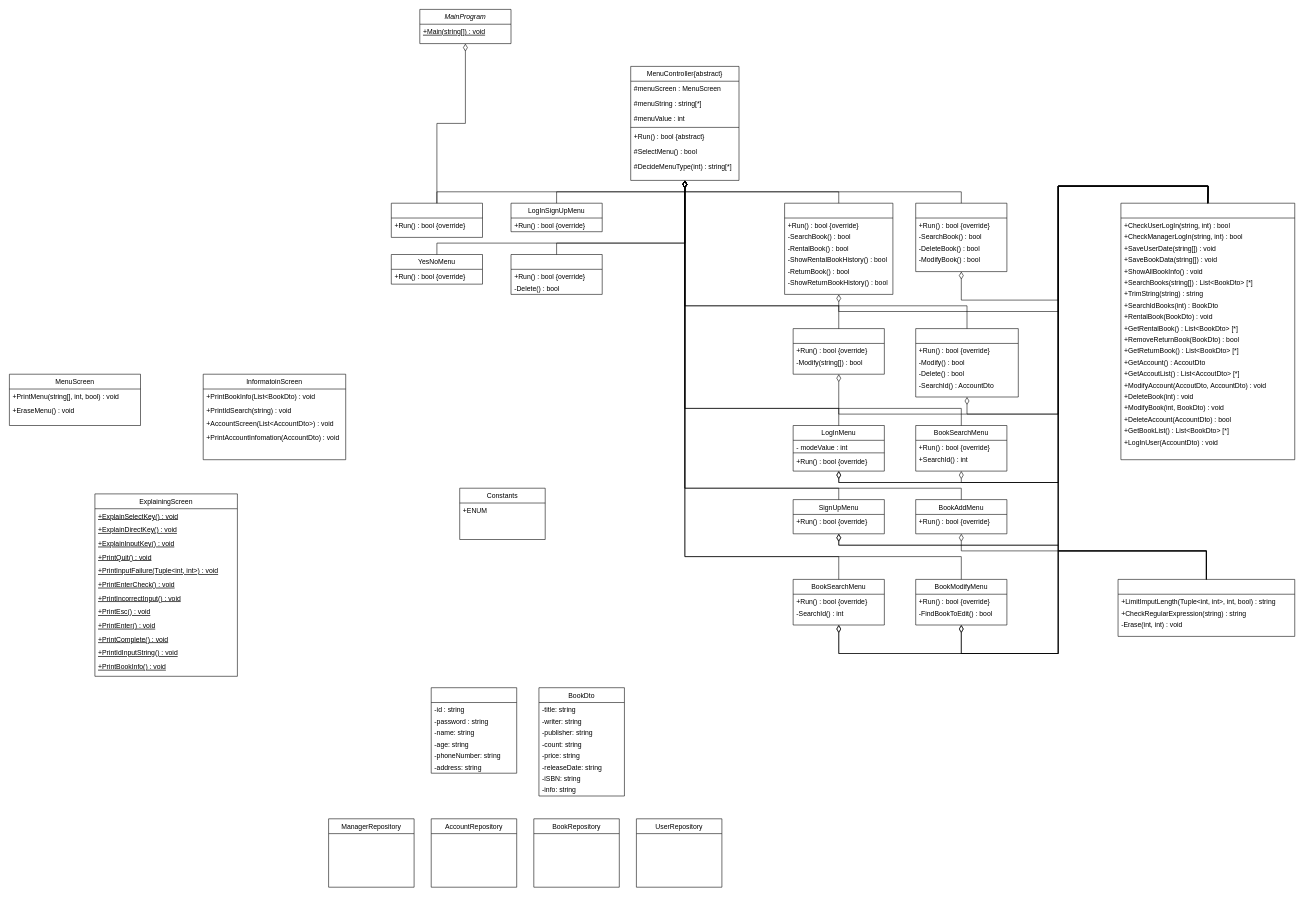
The diagram is 1304 pixels wide and 897 high, and some of its shapes have lost their labels. Here are the shapes that lost their labels. From the top down, the box of each, then its label:
(391, 203, 483, 237): ModeMenu
(915, 203, 1007, 272): ManagerMenu
(784, 203, 893, 294): UserMenu
(510, 254, 602, 294): UserModifyDeleteMenu
(793, 328, 884, 374): UserModifyMenu
(1120, 203, 1295, 460): InformaionController
(915, 328, 1018, 397): MemberModifyDeleteMenu
(1117, 579, 1295, 636): InputController
(431, 687, 517, 773): AccountDto
